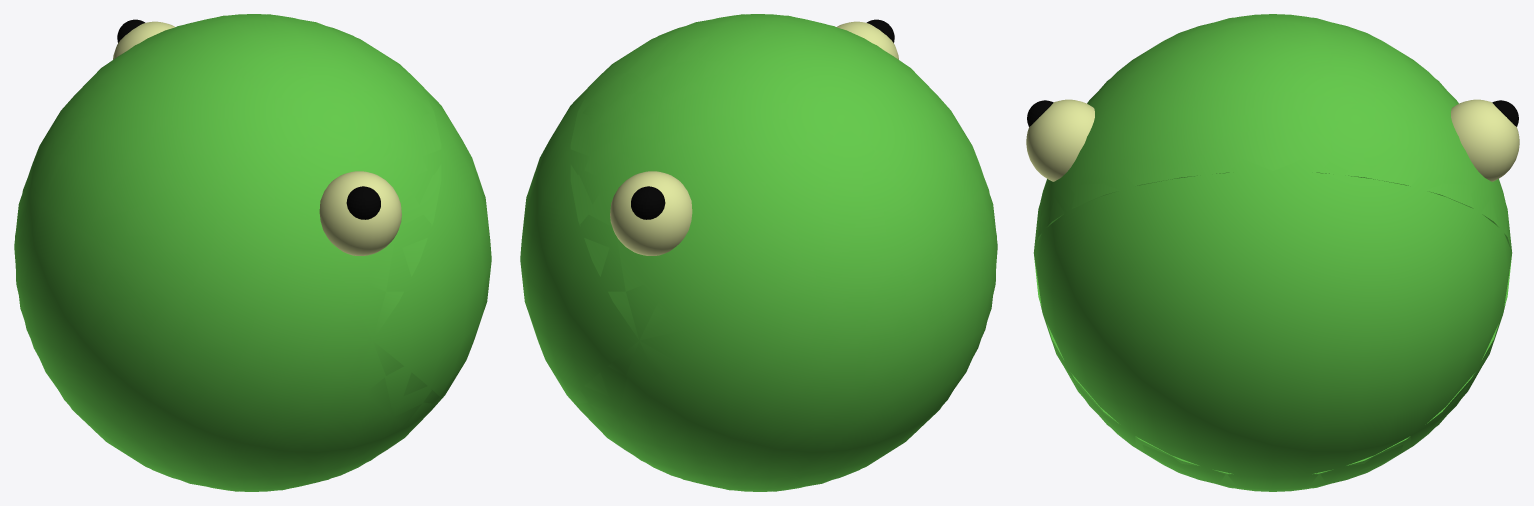
File: PacMan2.fbx
The picture shows the model from 3 angles, left to right: view 1: azimuth 30°, elevation 25°; view 2: azimuth 150°, elevation 25°; view 3: azimuth 270°, elevation 25°; orthographic projection.
Visible parts, largest first — view 1: Sphere, Sphere.001, Sphere.002; view 2: Sphere, Sphere.001, Sphere.002; view 3: Sphere, Sphere.001, Sphere.002.
Boxes of the visible parts, box(x1,y1,x2,y2) form: Sphere: box(14, 14, 491, 491); Sphere.001: box(15, 14, 441, 491); Sphere.002: box(113, 19, 401, 255); Sphere: box(520, 14, 997, 491); Sphere.001: box(570, 14, 996, 491); Sphere.002: box(610, 19, 898, 255); Sphere: box(1034, 14, 1511, 491); Sphere.001: box(1034, 17, 1511, 488); Sphere.002: box(1026, 99, 1519, 181).
Size of the model in its own units: 200 by 200 by 206.
